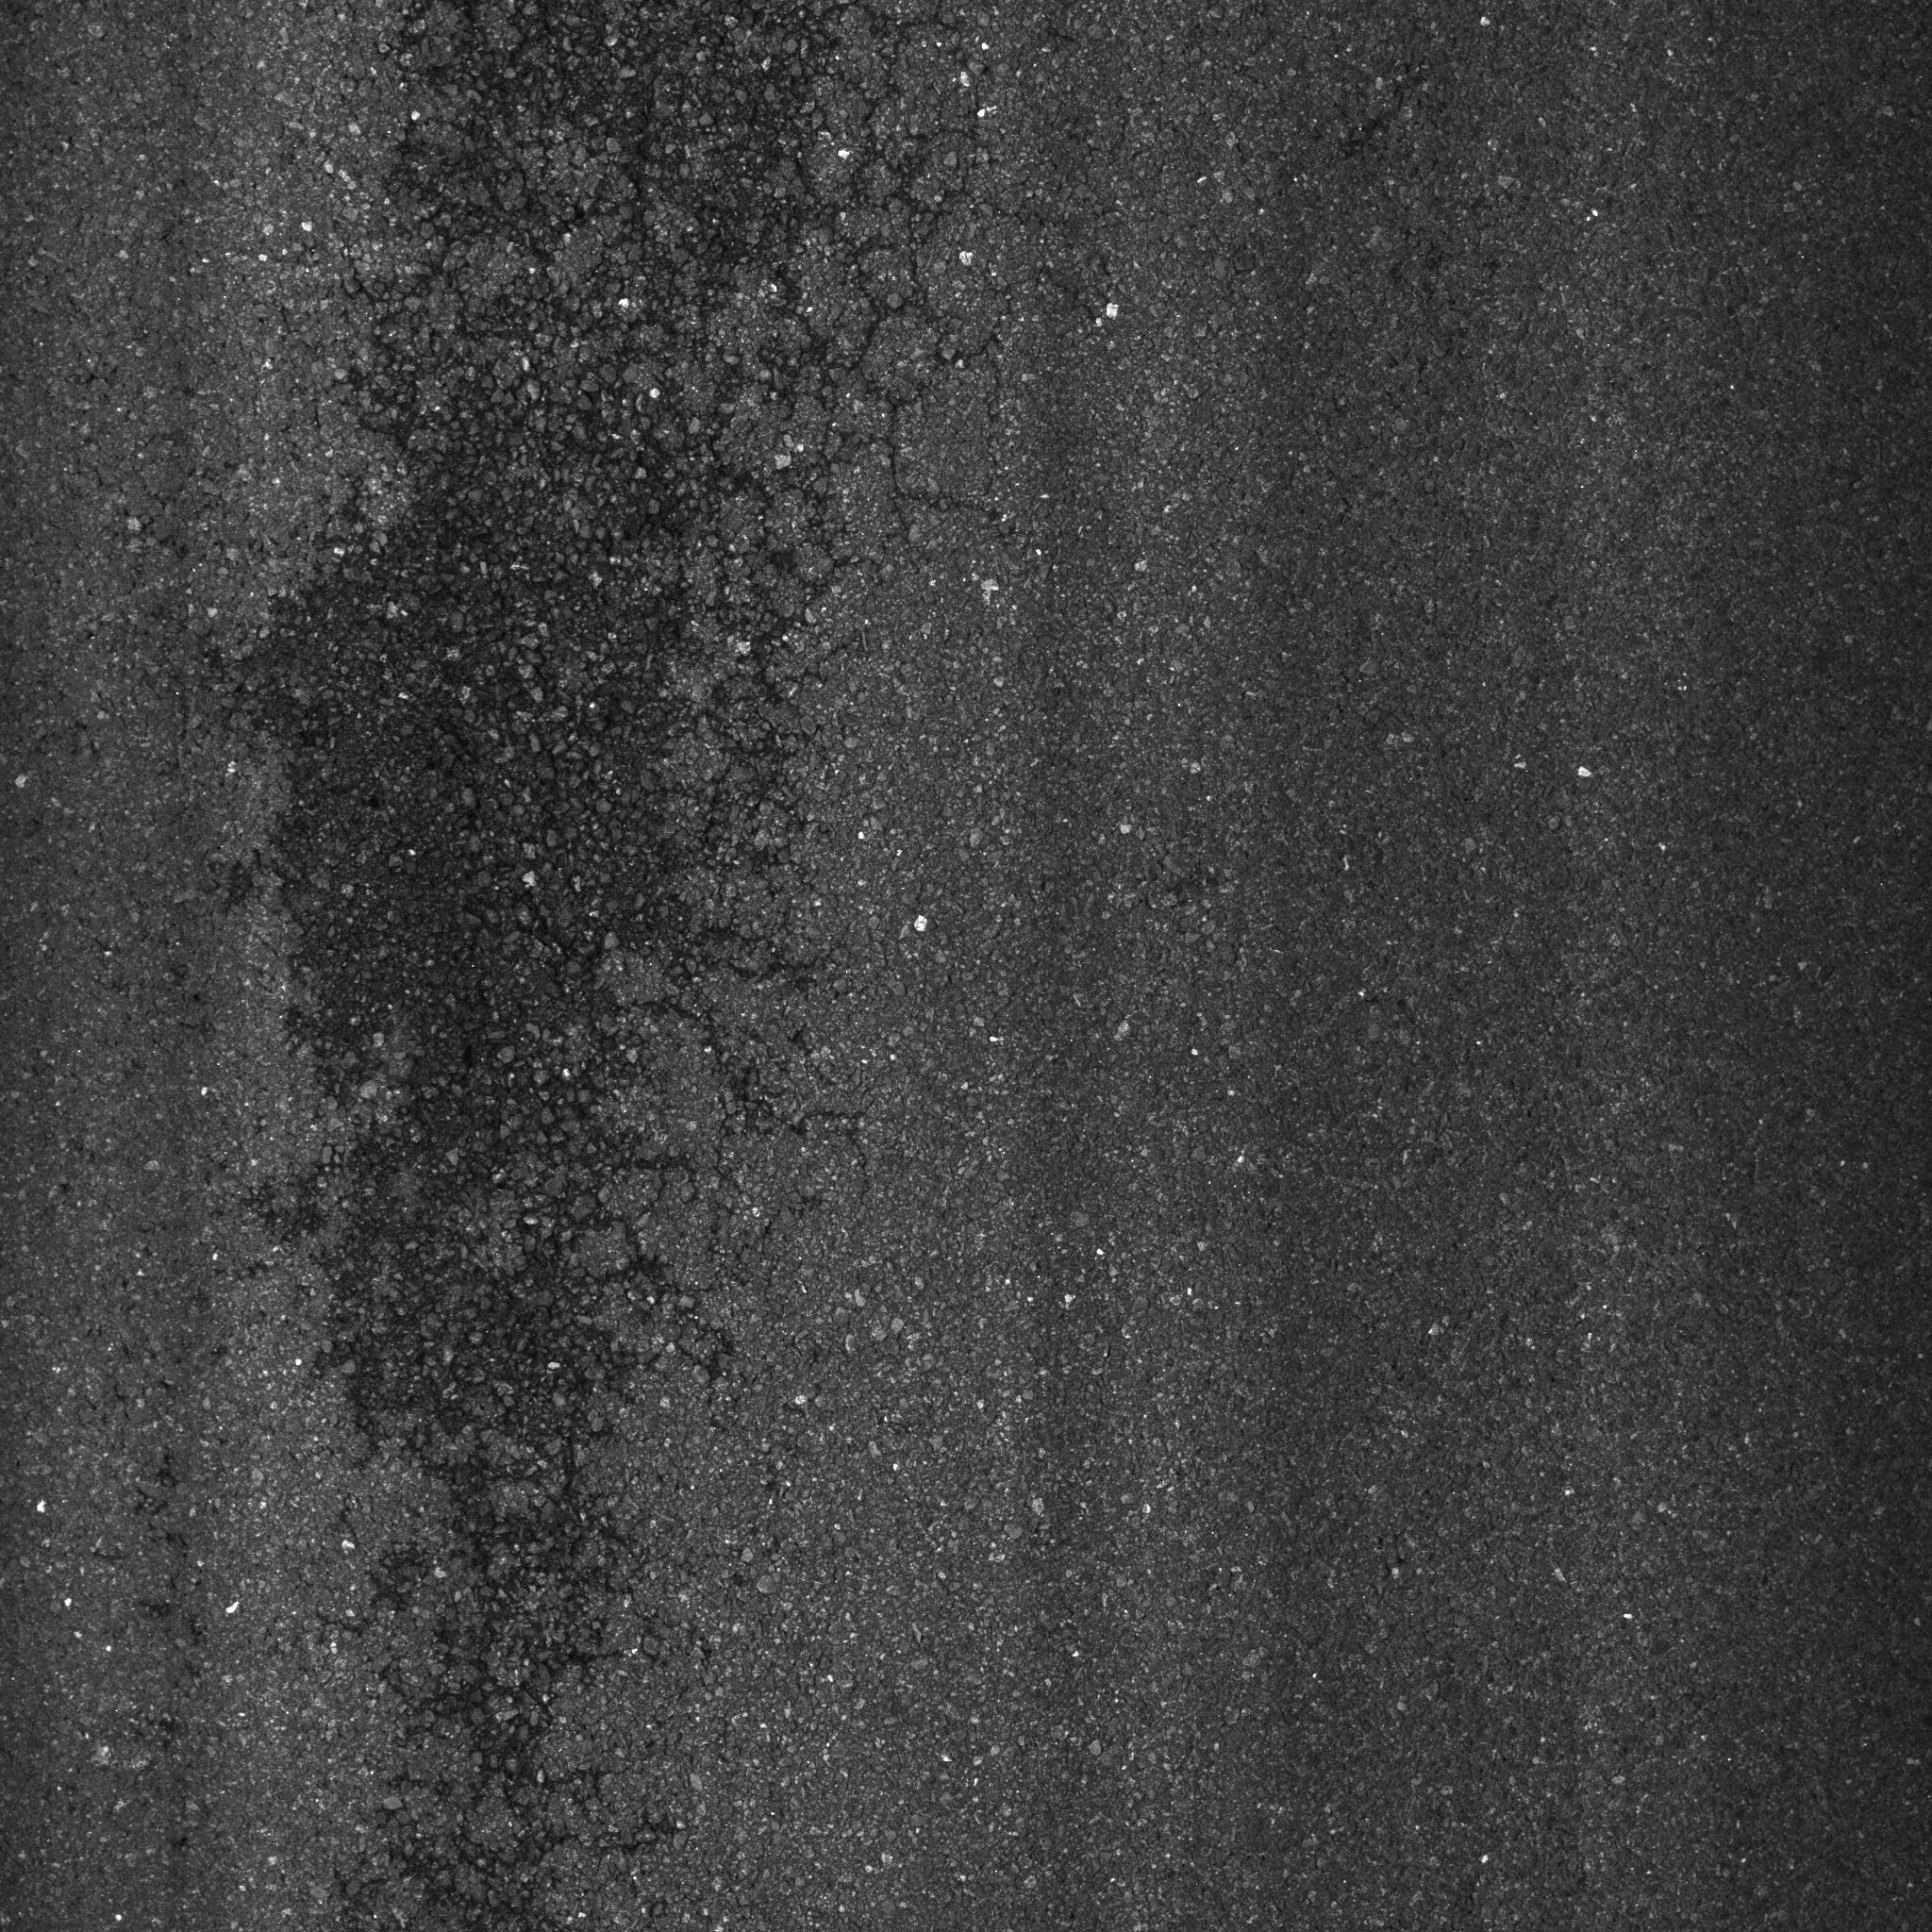alligator: (165, 2, 1086, 1932)
